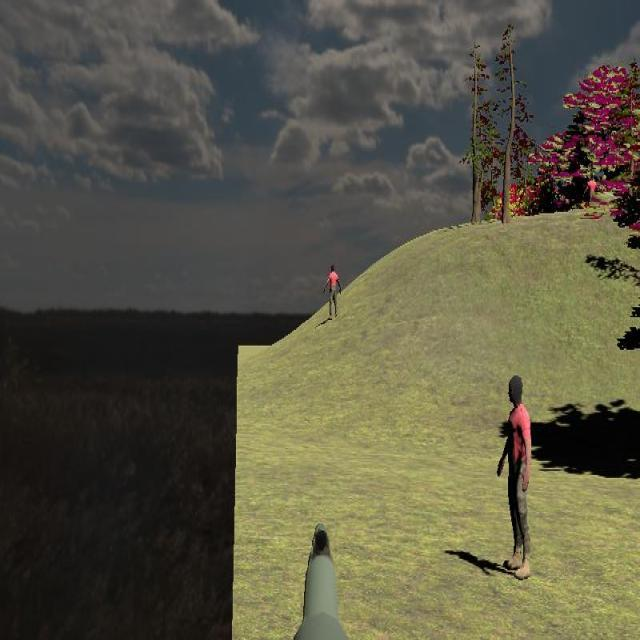Human: (497, 373, 533, 579), (325, 264, 341, 320)
